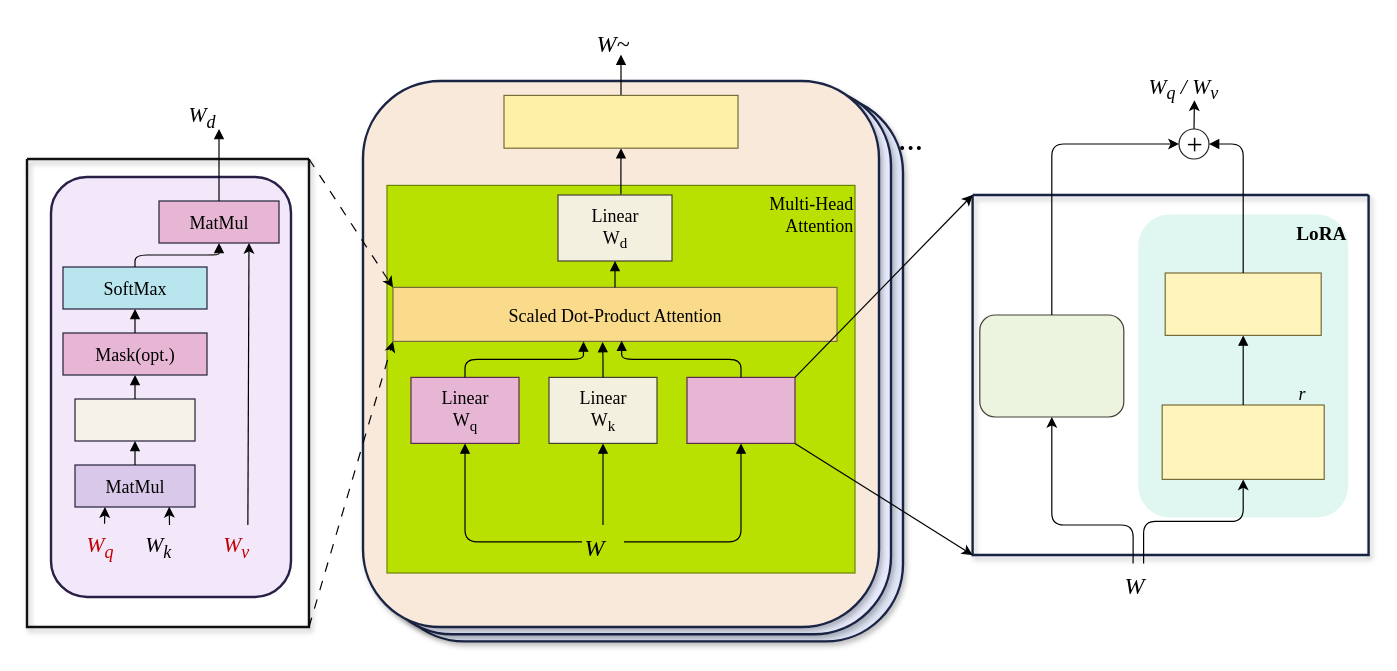
Image size: 1397x671. Some labels were removed from this diagram. The centre of each missing label's shape, as x and y in pixels:
"Downsampling A = N(0, sigma 2 )" goes at point 1242,441.
"Feedforward Neural Network Layer" goes at point 620,121.
"Linear W v" goes at point 740,409.
"Pretrained Weights W v" goes at point 1051,365.
"Scale" goes at point 134,419.
"Upsampling B = 0" goes at point 1242,303.
